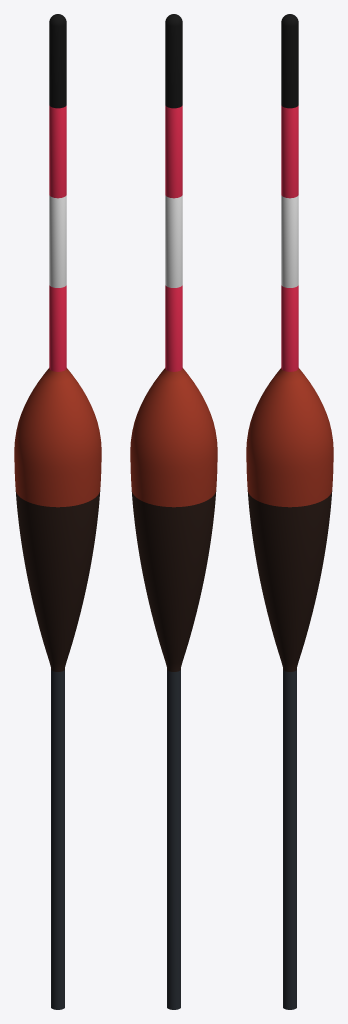
File: neva.glb
3 renders of one model, left to right at view 1: azimuth 90°, elevation 25°; view 2: azimuth 150°, elevation 25°; view 3: azimuth 270°, elevation 25°, orthographic.
Visible parts, largest first — view 1: neva; view 2: neva; view 3: neva.
Part boxes in pixels (x1,y1,x2,y2): neva: (14,14,101,1009); neva: (130,14,217,1009); neva: (246,14,333,1009).
Size of the model in its own units: 0.011 by 0.138 by 0.011.
